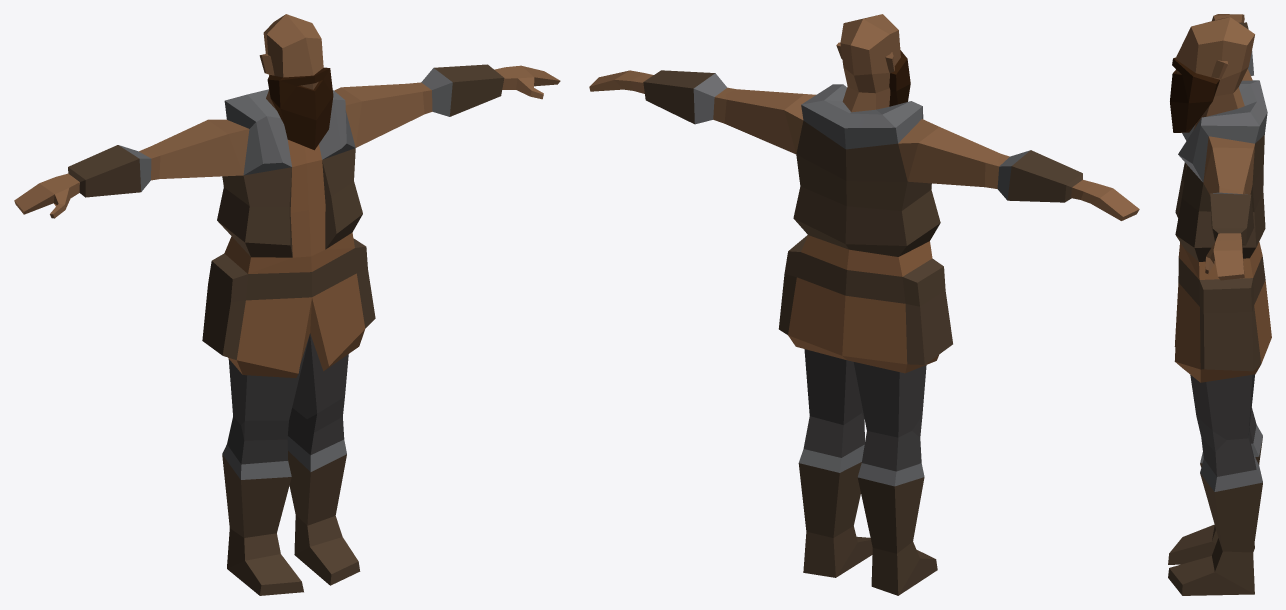
The model's file is SpearmanRig.fbx.
3 views of the same model, side by side, from view 1: azimuth 30°, elevation 25°; view 2: azimuth 150°, elevation 25°; view 3: azimuth 270°, elevation 25° (orthographic).
Visible parts, largest first — view 1: man-viking_Rig; view 2: man-viking_Rig; view 3: man-viking_Rig.
Boxes of the visible parts, box(x1,y1,x2,y2) form: man-viking_Rig: box(14, 14, 560, 595); man-viking_Rig: box(589, 14, 1139, 595); man-viking_Rig: box(1168, 14, 1271, 595).
Bounding box in the file's own units: 183 × 180 × 30.59.
